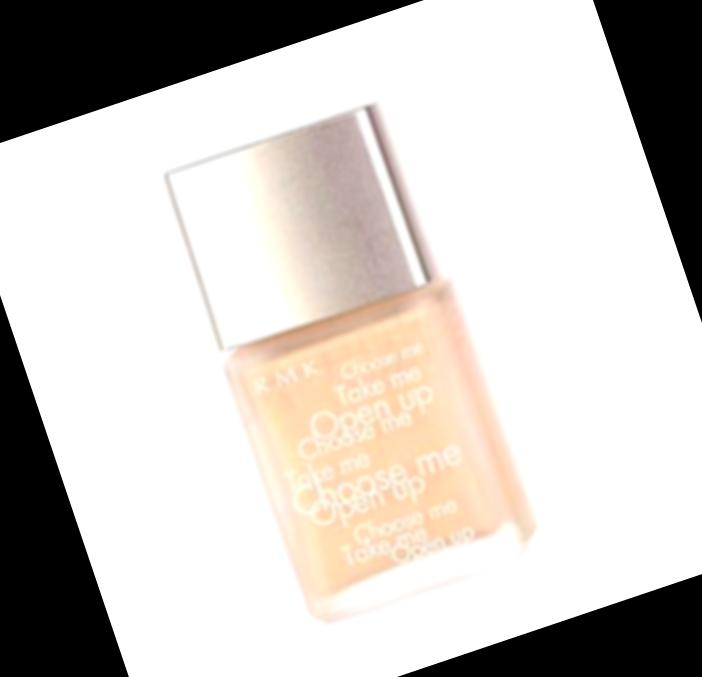cosmetic: (153, 91, 552, 632)
